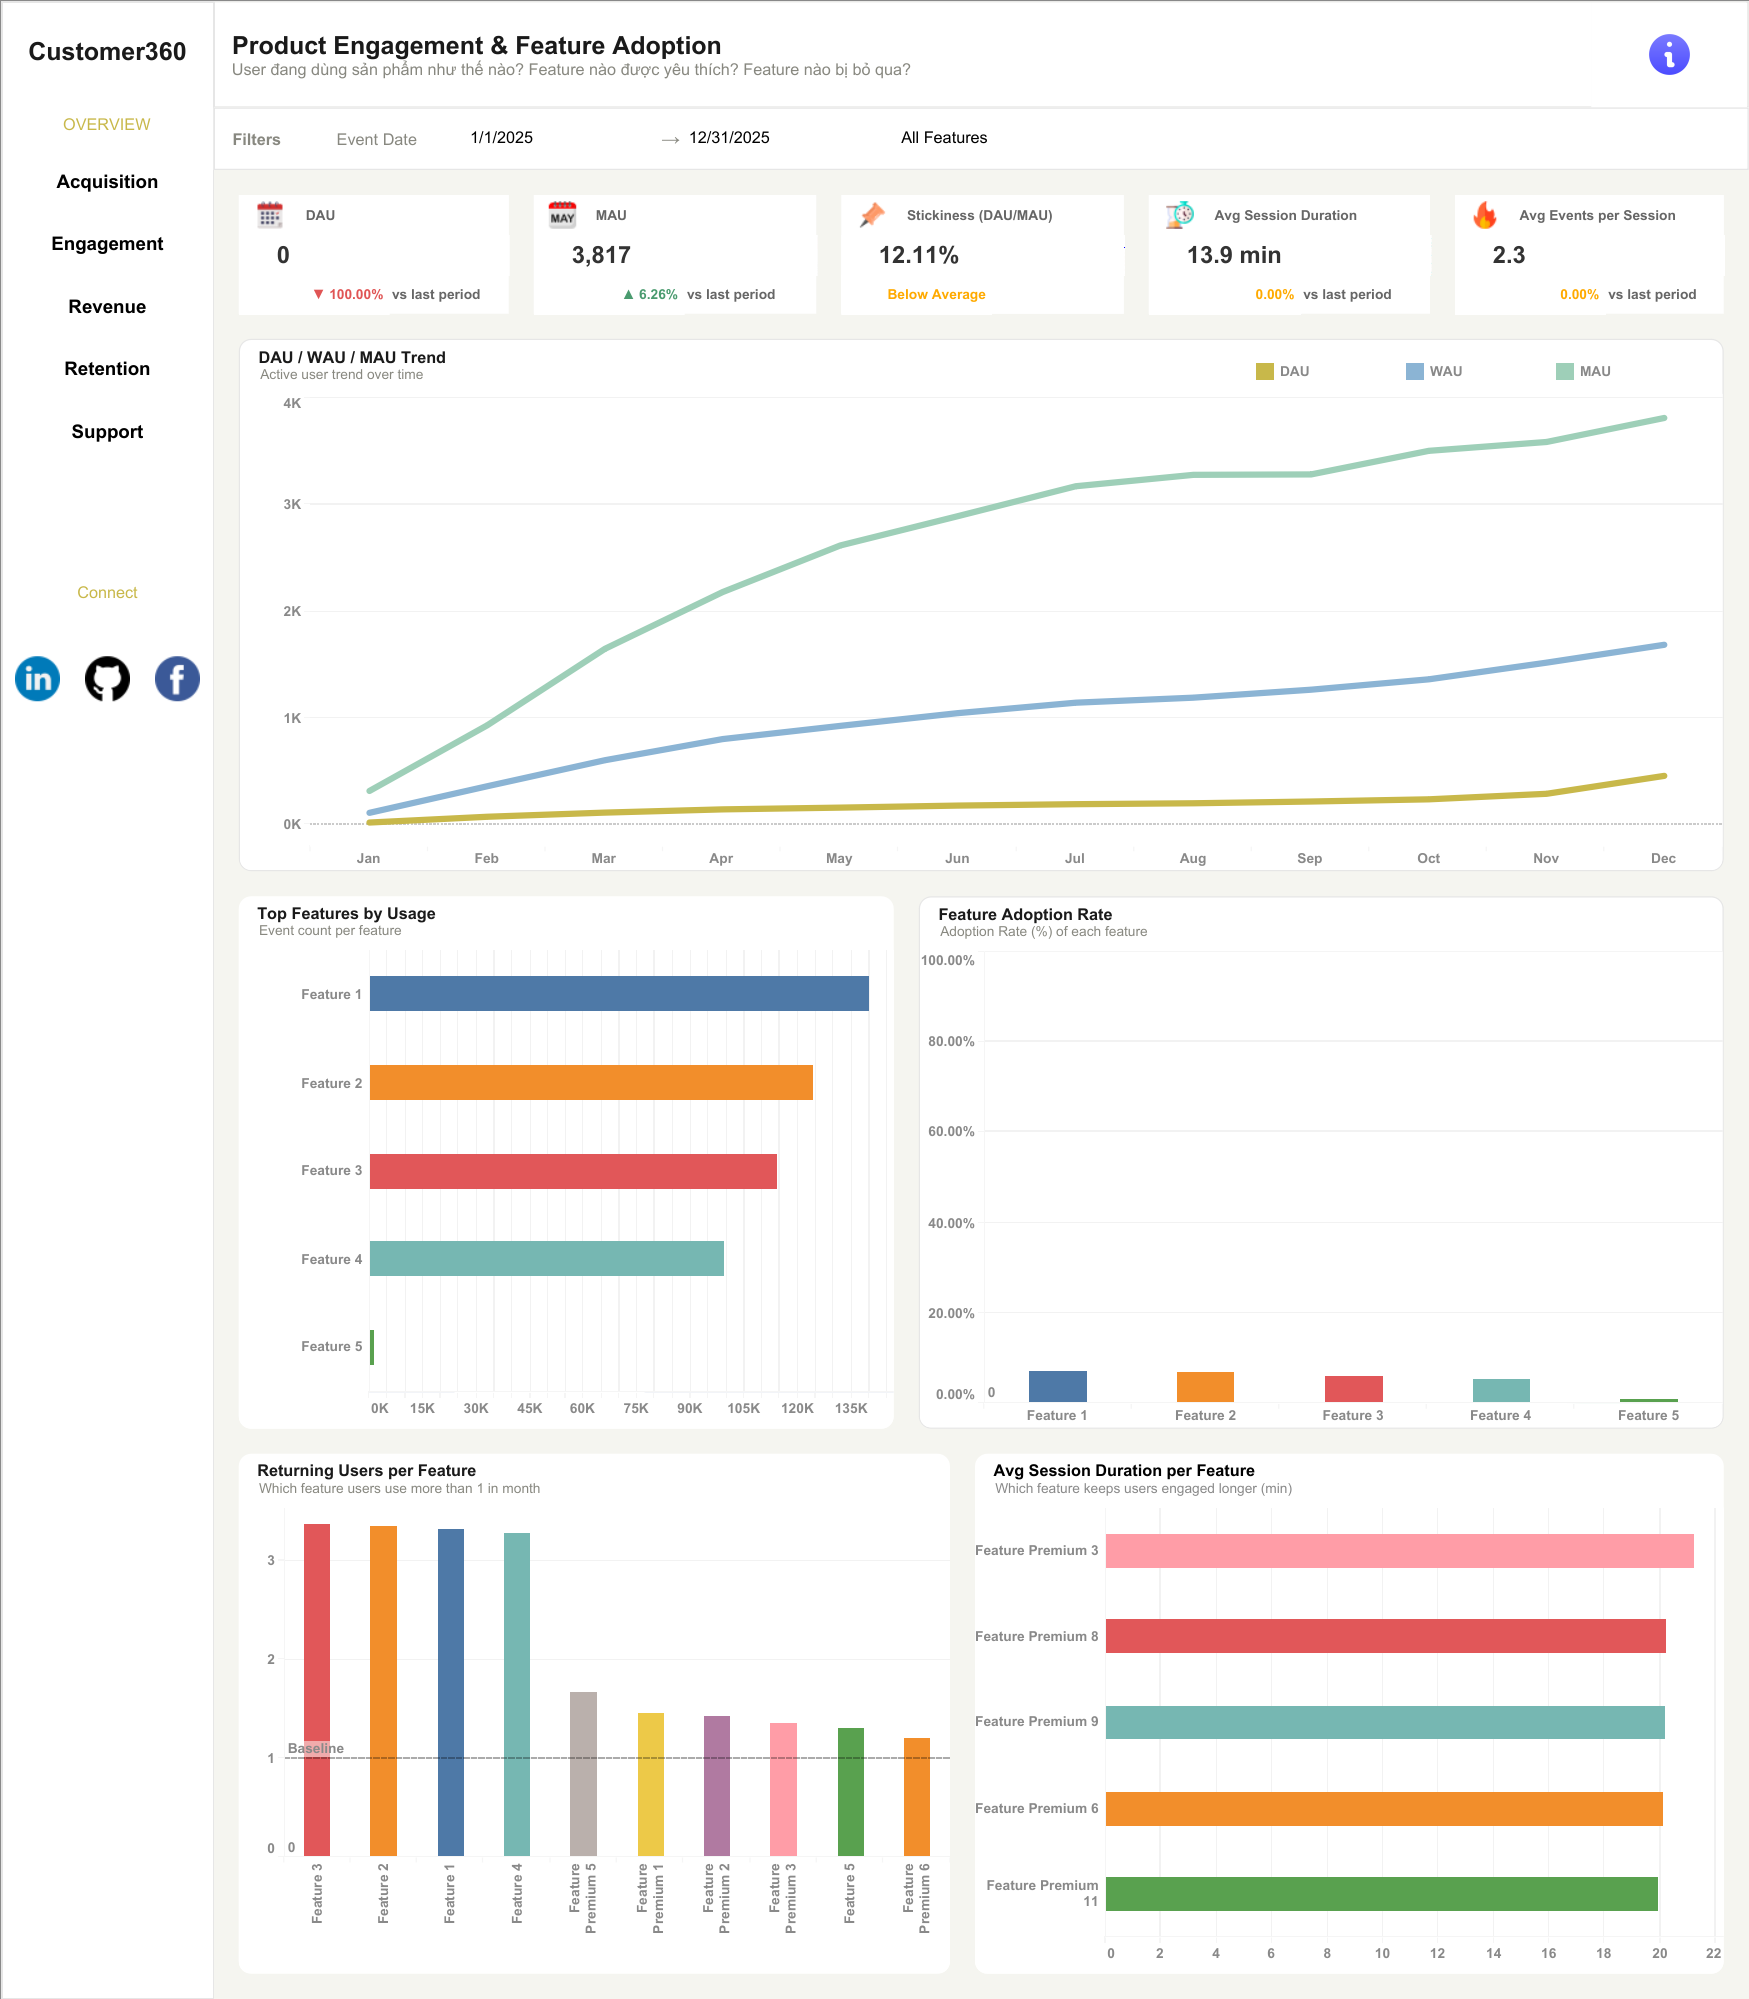

Layout of this report page (visuals, bound fields, positions):
{"tool":"tableau","page":{"name":"DB engagement","canvas":[1400,1600],"ordinal":1},"visuals":[{"type":"text","box":[2,2,168,77]},{"type":"text","box":[172,2,1101,83]},{"type":"worksheet","title":"engagement info","mark":"Shape","box":[1273,2,125,83]},{"type":"text","box":[2,79,168,41]},{"type":"text","box":[172,87,67,48]},{"type":"text","box":[239,87,125,48]},{"type":"parameter","param":"[Parameters].[Parameter 1]","box":[374,97,150,28]},{"type":"text","box":[524,97,25,28]},{"type":"parameter","param":"[Parameters].[Start Date (copy)_0611647334416384]","box":[549,97,150,28]},{"type":"parameter","param":"[Parameters].[Parameter 6]","box":[699,97,262.3,28]},{"type":"dashboard-object","box":[2,120,168,50]},{"type":"image","param":"Image/dau.png","box":[191,156,51,32]},{"type":"text","box":[242,156,165,32]},{"type":"image","param":"Image/mau.png","box":[427,156,47,32]},{"type":"text","box":[474,156,179,32]},{"type":"image","param":"Image/stickiness.png","box":[673,156,50,32]},{"type":"text","box":[723,156,176,32]},{"type":"image","param":"Image/avg session duration.png","box":[919,156,50,32]},{"type":"text","box":[969,156,175,32]},{"type":"image","param":"Image/avg event per session.png","box":[1164,156,49,32]},{"type":"text","box":[1213,156,166,32]},{"type":"dashboard-object","box":[2,170,168,50]},{"type":"worksheet","title":"p2 kpi dau","mark":"Automatic","box":[191,188,216,32]},{"type":"worksheet","title":"p2 kpi mau","mark":"Automatic","box":[427,188,226,32]},{"type":"worksheet","title":"p2 kpi stickiness","mark":"Automatic","box":[673,188,226,32]},{"type":"worksheet","title":"p2 kpi avg session duration","mark":"Automatic","box":[919,188,225,32]},{"type":"worksheet","title":"p2 kpi avg events/session","mark":"Automatic","box":[1164,188,215,32]},{"type":"dashboard-object","box":[2,220,168,50]},{"type":"worksheet","title":"p2 kpi dau change","mark":"Automatic","box":[191,220,120,31]},{"type":"text","box":[311,220,96,31]},{"type":"worksheet","title":"p2 kpi mau change","mark":"Automatic","box":[427,220,120,31]},{"type":"text","box":[547,220,106,31]},{"type":"worksheet","title":"p2 kpi stickiness warning","mark":"Automatic","box":[673,220,120,31]},{"type":"text","box":[793,220,106,31]},{"type":"worksheet","title":"p2 kpi avg session duration change","mark":"Automatic","box":[919,220,121,31]},{"type":"text","box":[1040,220,104,31]},{"type":"worksheet","title":"p2 kpi avg events/session change","mark":"Automatic","box":[1164,220,120,31]},{"type":"text","box":[1284,220,95,31]},{"type":"worksheet","title":"p2 chart dau/wau/mau trend","mark":"Automatic","rows":["Calculation_0550906761981968"],"cols":["event_date"],"box":[171,261,1228,446]},{"type":"dashboard-object","box":[2,270,168,50]},{"type":"legend","title":"p2 chart dau/wau/mau trend","param":"[federated.03l60jc08rh3jk1ceiehl1fc63ch].[:Measure Names]","box":[1002,287,366,28]},{"type":"dashboard-object","box":[2,320,168,50]},{"type":"blank","box":[2,370,168,63]},{"type":"text","box":[2,433,168,80]},{"type":"image","param":"Image/linkedin.png","box":[2,513,56,60]},{"type":"image","param":"Image/github.png","box":[58,513,56,60]},{"type":"image","param":"Image/facebook.png","box":[114,513,56,60]},{"type":"blank","box":[2,573,168,1025]},{"type":"worksheet","title":"p2 chart top feature by usage","mark":"Bar","rows":["feature_name"],"cols":["Calculation_0161405845114884"],"box":[171,707,554,446]},{"type":"worksheet","title":"p2 chart feature adoption rate","mark":"Bar","rows":["Calculation_0468444094873600"],"cols":["feature_name"],"box":[725,707,673.9,446]},{"type":"worksheet","title":"p2 chart returning users per feature","mark":"Bar","rows":["Calculation_0410444268605440"],"cols":["feature_name"],"box":[171,1153,599,446]},{"type":"worksheet","title":"p2 chart avg session duration per feature","mark":"Bar","rows":["feature_name"],"cols":["Calculation_0550906755198984"],"box":[770,1153,629,446]}]}

Visuals, with their boxes in screenshot pixels (x1, y1, x2, y2), scaled from the page's 1400x1600 canvas onto the 1749x1999 screenshot:
text: bbox(2, 2, 212, 99)
text: bbox(215, 2, 1590, 106)
"engagement info" worksheet (Shape marks): bbox(1590, 2, 1747, 106)
text: bbox(2, 99, 212, 150)
text: bbox(215, 109, 299, 169)
text: bbox(299, 109, 455, 169)
parameter: bbox(467, 121, 655, 156)
text: bbox(655, 121, 686, 156)
parameter: bbox(686, 121, 873, 156)
parameter: bbox(873, 121, 1201, 156)
dashboard-object: bbox(2, 150, 212, 212)
image: bbox(239, 195, 302, 235)
text: bbox(302, 195, 508, 235)
image: bbox(533, 195, 592, 235)
text: bbox(592, 195, 816, 235)
image: bbox(841, 195, 903, 235)
text: bbox(903, 195, 1123, 235)
image: bbox(1148, 195, 1211, 235)
text: bbox(1211, 195, 1429, 235)
image: bbox(1454, 195, 1515, 235)
text: bbox(1515, 195, 1723, 235)
dashboard-object: bbox(2, 212, 212, 275)
"p2 kpi dau" worksheet: bbox(239, 235, 508, 275)
"p2 kpi mau" worksheet: bbox(533, 235, 816, 275)
"p2 kpi stickiness" worksheet: bbox(841, 235, 1123, 275)
"p2 kpi avg session duration" worksheet: bbox(1148, 235, 1429, 275)
"p2 kpi avg events/session" worksheet: bbox(1454, 235, 1723, 275)
dashboard-object: bbox(2, 275, 212, 337)
"p2 kpi dau change" worksheet: bbox(239, 275, 389, 314)
text: bbox(389, 275, 508, 314)
"p2 kpi mau change" worksheet: bbox(533, 275, 683, 314)
text: bbox(683, 275, 816, 314)
"p2 kpi stickiness warning" worksheet: bbox(841, 275, 991, 314)
text: bbox(991, 275, 1123, 314)
"p2 kpi avg session duration change" worksheet: bbox(1148, 275, 1299, 314)
text: bbox(1299, 275, 1429, 314)
"p2 kpi avg events/session change" worksheet: bbox(1454, 275, 1604, 314)
text: bbox(1604, 275, 1723, 314)
"p2 chart dau/wau/mau trend" worksheet: bbox(214, 326, 1748, 883)
dashboard-object: bbox(2, 337, 212, 400)
"p2 chart dau/wau/mau trend" legend: bbox(1252, 359, 1709, 394)
dashboard-object: bbox(2, 400, 212, 462)
blank: bbox(2, 462, 212, 541)
text: bbox(2, 541, 212, 641)
image: bbox(2, 641, 72, 716)
image: bbox(72, 641, 142, 716)
image: bbox(142, 641, 212, 716)
blank: bbox(2, 716, 212, 1997)
"p2 chart top feature by usage" worksheet (Bar marks): bbox(214, 883, 906, 1441)
"p2 chart feature adoption rate" worksheet (Bar marks): bbox(906, 883, 1748, 1441)
"p2 chart returning users per feature" worksheet (Bar marks): bbox(214, 1441, 962, 1998)
"p2 chart avg session duration per feature" worksheet (Bar marks): bbox(962, 1441, 1748, 1998)
